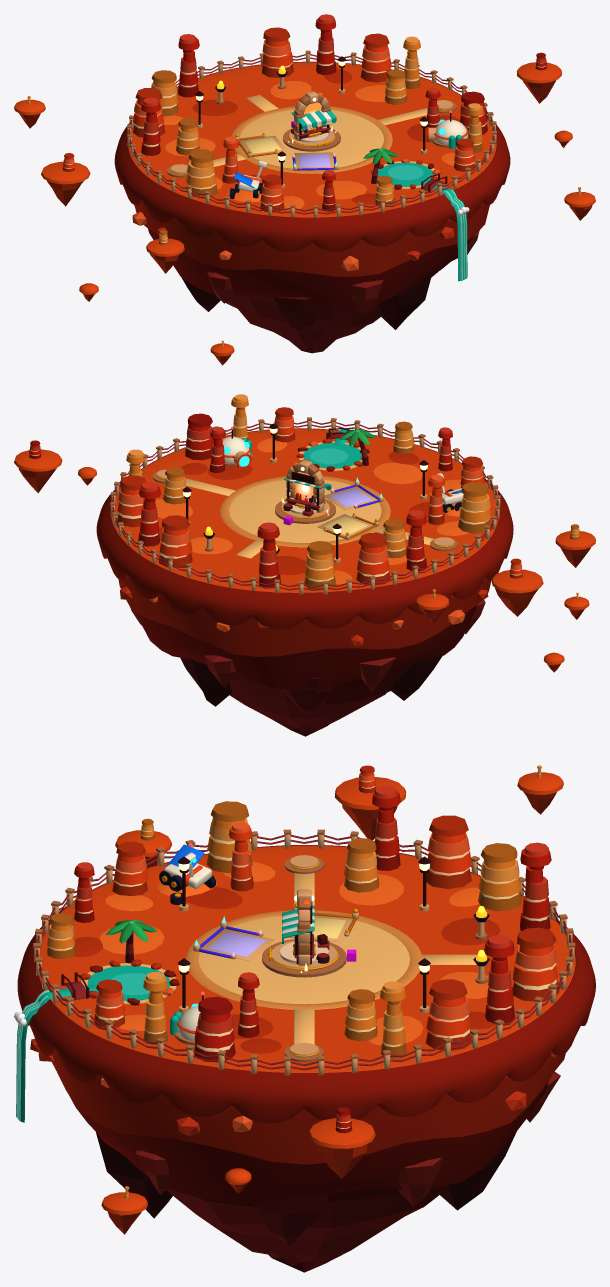
Rendered from mars_island.fbx.
3 views of the same model, one above another, from view 1: azimuth 30°, elevation 25°; view 2: azimuth 150°, elevation 25°; view 3: azimuth 270°, elevation 25° (orthographic). The views are drawn at different scales.
Visible parts, largest first — view 1: Mars_Island, Mars_Trees, Mars_Dressing, Mars_Paths, Mars_FloatingRocks, Mars_Water, Mars_BossPlinth, Mars_Stall, Mars_Portal; view 2: Mars_Island, Mars_Trees, Mars_Paths, Mars_Dressing, Mars_FloatingRocks, Mars_Water, Mars_Portal, Mars_Stall, Mars_BossPlinth, Mars_Glow; view 3: Mars_Island, Mars_Trees, Mars_Paths, Mars_Dressing, Mars_FloatingRocks, Mars_Water, Mars_BossPlinth, Mars_Stall, Mars_Portal, Mars_Glow.
Part boxes in pixels (<box>): Mars_Island: <box>114,61,510,353</box>; Mars_Trees: <box>133,14,487,212</box>; Mars_Dressing: <box>127,50,496,217</box>; Mars_Paths: <box>167,95,456,177</box>; Mars_FloatingRocks: <box>14,52,595,365</box>; Mars_Water: <box>377,162,469,281</box>; Mars_BossPlinth: <box>283,128,340,151</box>; Mars_Stall: <box>291,110,336,140</box>; Mars_Portal: <box>288,91,336,143</box>; Mars_Island: <box>96,428,513,736</box>; Mars_Trees: <box>117,394,491,590</box>; Mars_Paths: <box>152,469,458,558</box>; Mars_Dressing: <box>110,417,500,594</box>; Mars_FloatingRocks: <box>14,440,595,672</box>; Mars_Water: <box>303,429,361,468</box>; Mars_Portal: <box>281,460,328,515</box>; Mars_Stall: <box>283,471,331,516</box>; Mars_BossPlinth: <box>275,499,335,523</box>; Mars_Glow: <box>183,427,427,551</box>; Mars_Island: <box>17,845,595,1272</box>; Mars_Trees: <box>47,785,559,1062</box>; Mars_Paths: <box>186,855,476,1062</box>; Mars_Dressing: <box>33,829,575,1075</box>; Mars_FloatingRocks: <box>101,765,563,1234</box>; Mars_Water: <box>14,965,169,1122</box>; Mars_BossPlinth: <box>262,939,346,977</box>; Mars_Stall: <box>282,901,329,964</box>; Mars_Portal: <box>294,889,314,972</box>; Mars_Glow: <box>178,843,487,1007</box>.
Bounding box in the file's own units: 181 × 91.85 × 123.
